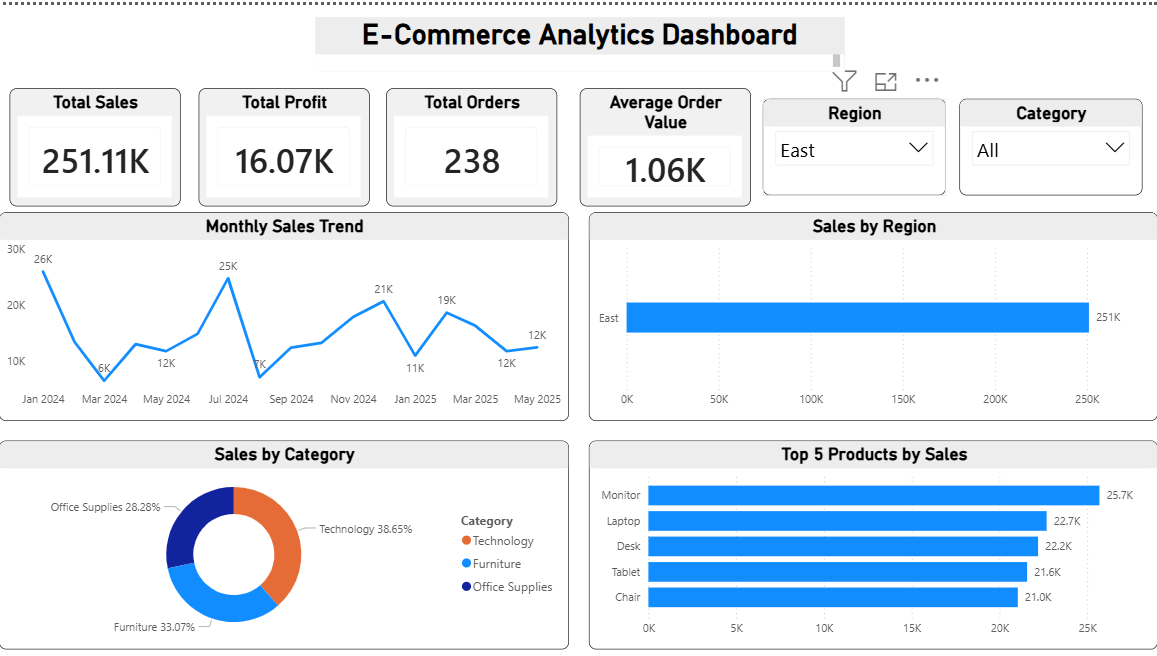

The page's visual inventory and layout, read from the dashboard file:
{"tool":"powerbi","page":{"name":"Executive Overview","canvas":[1280,720],"ordinal":0},"visuals":[{"type":"cardVisual","title":"Total Sales","fields":{"Data":["Ecommerce_Data.Total Sales"]},"box":[11.7,91.7,188.3,130],"z":0},{"type":"cardVisual","title":"Average Order Value","fields":{"Data":["Ecommerce_Data.Average Order Value"]},"box":[640,91.7,188.3,130],"z":1000},{"type":"cardVisual","title":"Total Orders","fields":{"Data":["Ecommerce_Data.Total Orders"]},"box":[426.7,91.7,188.3,130],"z":2000},{"type":"cardVisual","title":"Total Profit","fields":{"Data":["Ecommerce_Data.Total Profit"]},"box":[220,91.7,188.3,130],"z":3000},{"type":"lineChart","title":"Monthly Sales Trend","fields":{"Y":["Ecommerce_Data.Total Sales"],"Category":["Ecommerce_Data.Order Date.Variation.Date Hierarchy.Year","Ecommerce_Data.Order Date.Variation.Date Hierarchy.Month"]},"box":[0,228.3,628.3,230],"z":4000},{"type":"clusteredBarChart","title":"Sales by Region","fields":{"Category":["Ecommerce_Data.Region"],"Y":["Ecommerce_Data.Total Sales"]},"box":[650,228.3,628.3,230],"z":5000},{"type":"donutChart","title":"Sales by Category","fields":{"Category":["Ecommerce_Data.Category"],"Y":["Ecommerce_Data.Total Sales"]},"box":[0,480,628.3,230],"z":6000},{"type":"slicer","title":"Region","fields":{"Values":["Ecommerce_Data.Region"]},"box":[841.7,103.3,201.7,106.7],"z":7000},{"type":"slicer","title":"Category","fields":{"Values":["Ecommerce_Data.Category"]},"box":[1058.3,103.3,201.7,106.7],"z":8000},{"type":"clusteredBarChart","title":"Top 5 Products by Sales","fields":{"Category":["Ecommerce_Data.Product Name"],"Y":["Ecommerce_Data.Total Sales"]},"box":[650,480,628.3,230],"z":9000},{"type":"textbox","title":"E-Commerce Analytics Dashboard","box":[348.3,13.3,583.3,60],"z":10000}]}

Visuals, with their boxes in screenshot pixels (x1, y1, x2, y2), scaled from the page's 1280x720 canvas onto the 1157x656 screenshot:
"Total Sales" cardVisual: pyautogui.locateOnScreen(11, 84, 181, 202)
"Average Order Value" cardVisual: pyautogui.locateOnScreen(578, 84, 749, 202)
"Total Orders" cardVisual: pyautogui.locateOnScreen(386, 84, 556, 202)
"Total Profit" cardVisual: pyautogui.locateOnScreen(199, 84, 369, 202)
"Monthly Sales Trend" lineChart: pyautogui.locateOnScreen(0, 208, 568, 418)
"Sales by Region" clusteredBarChart: pyautogui.locateOnScreen(588, 208, 1155, 418)
"Sales by Category" donutChart: pyautogui.locateOnScreen(0, 437, 568, 647)
"Region" slicer: pyautogui.locateOnScreen(761, 94, 943, 191)
"Category" slicer: pyautogui.locateOnScreen(957, 94, 1139, 191)
"Top 5 Products by Sales" clusteredBarChart: pyautogui.locateOnScreen(588, 437, 1155, 647)
"E-Commerce Analytics Dashboard" textbox: pyautogui.locateOnScreen(315, 12, 842, 67)
